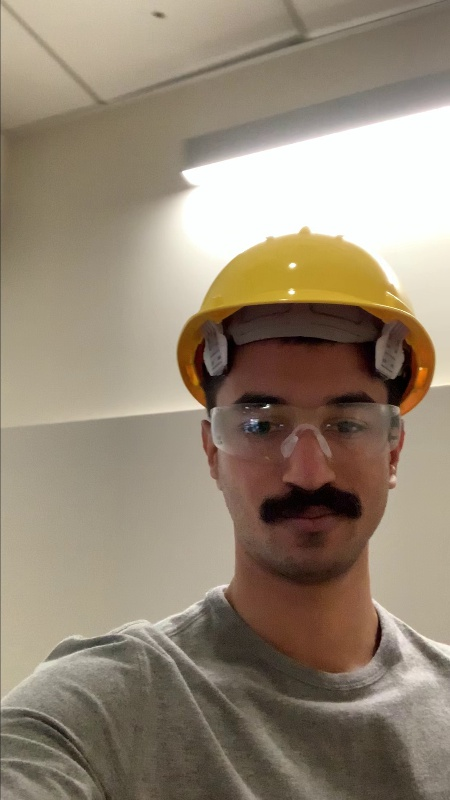glasses: (207, 400, 399, 451)
helmet: (175, 232, 423, 325)
